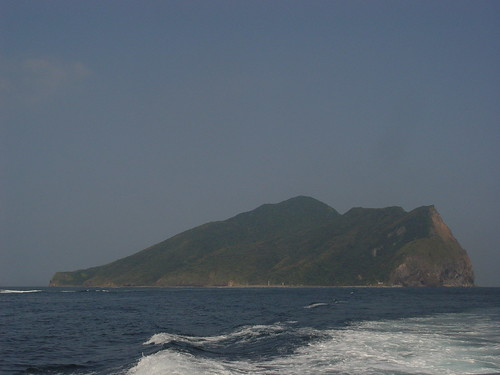turtleIslandTop: (51, 183, 480, 291)
